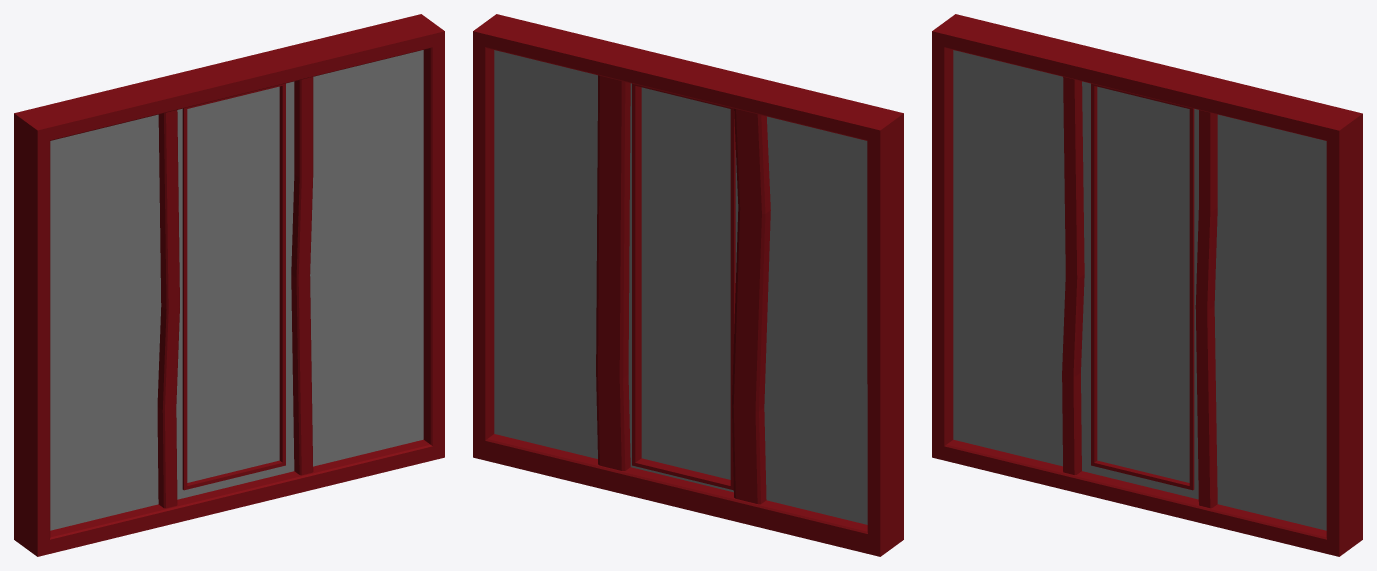
Rendered from SM_MH_01_Wood_02_Wall_Window_03.fbx.
The picture shows the model from 3 angles, left to right: view 1: azimuth 30°, elevation 25°; view 2: azimuth 150°, elevation 25°; view 3: azimuth 330°, elevation 25°; orthographic projection.
Visible parts, largest first — view 1: SM_MH_01_Wood_02_Wall_Window_03_LOD0, SM_MH_01_Wood_02_Wall_Window_03W_LOD0; view 2: SM_MH_01_Wood_02_Wall_Window_03_LOD0, SM_MH_01_Wood_02_Wall_Window_03W_LOD0; view 3: SM_MH_01_Wood_02_Wall_Window_03_LOD0, SM_MH_01_Wood_02_Wall_Window_03W_LOD0.
Boxes of the visible parts, box(x1,y1,x2,y2) form: SM_MH_01_Wood_02_Wall_Window_03_LOD0: box(14, 14, 444, 556); SM_MH_01_Wood_02_Wall_Window_03W_LOD0: box(187, 86, 279, 482); SM_MH_01_Wood_02_Wall_Window_03_LOD0: box(473, 14, 903, 556); SM_MH_01_Wood_02_Wall_Window_03W_LOD0: box(641, 87, 730, 479); SM_MH_01_Wood_02_Wall_Window_03_LOD0: box(932, 14, 1362, 556); SM_MH_01_Wood_02_Wall_Window_03W_LOD0: box(1097, 86, 1189, 482).
Size of what is drawn, in the model's own units: 300 by 300 by 30.
